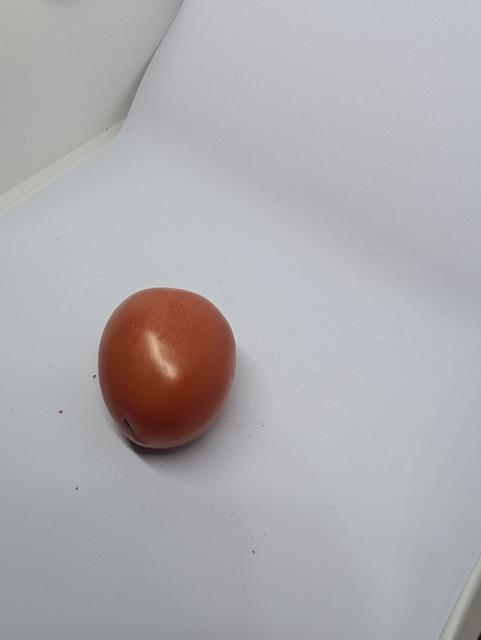red: (96, 287, 240, 453)
